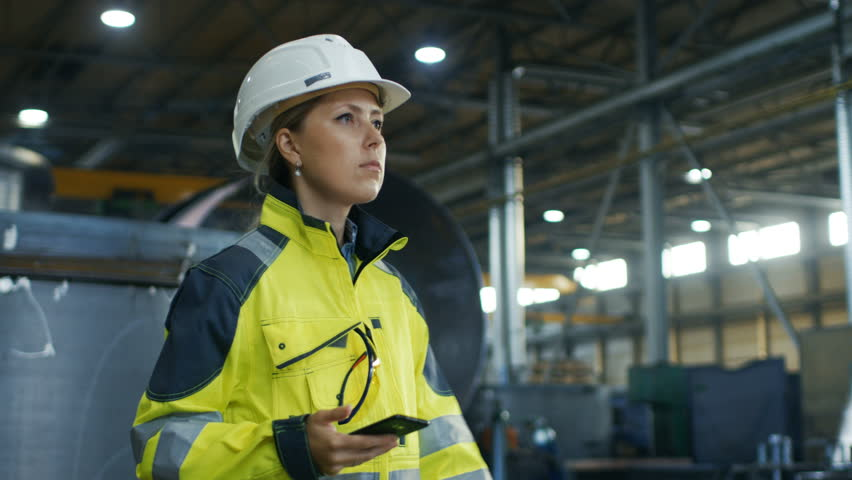Person_wearing_helmet: (219, 24, 422, 139)
